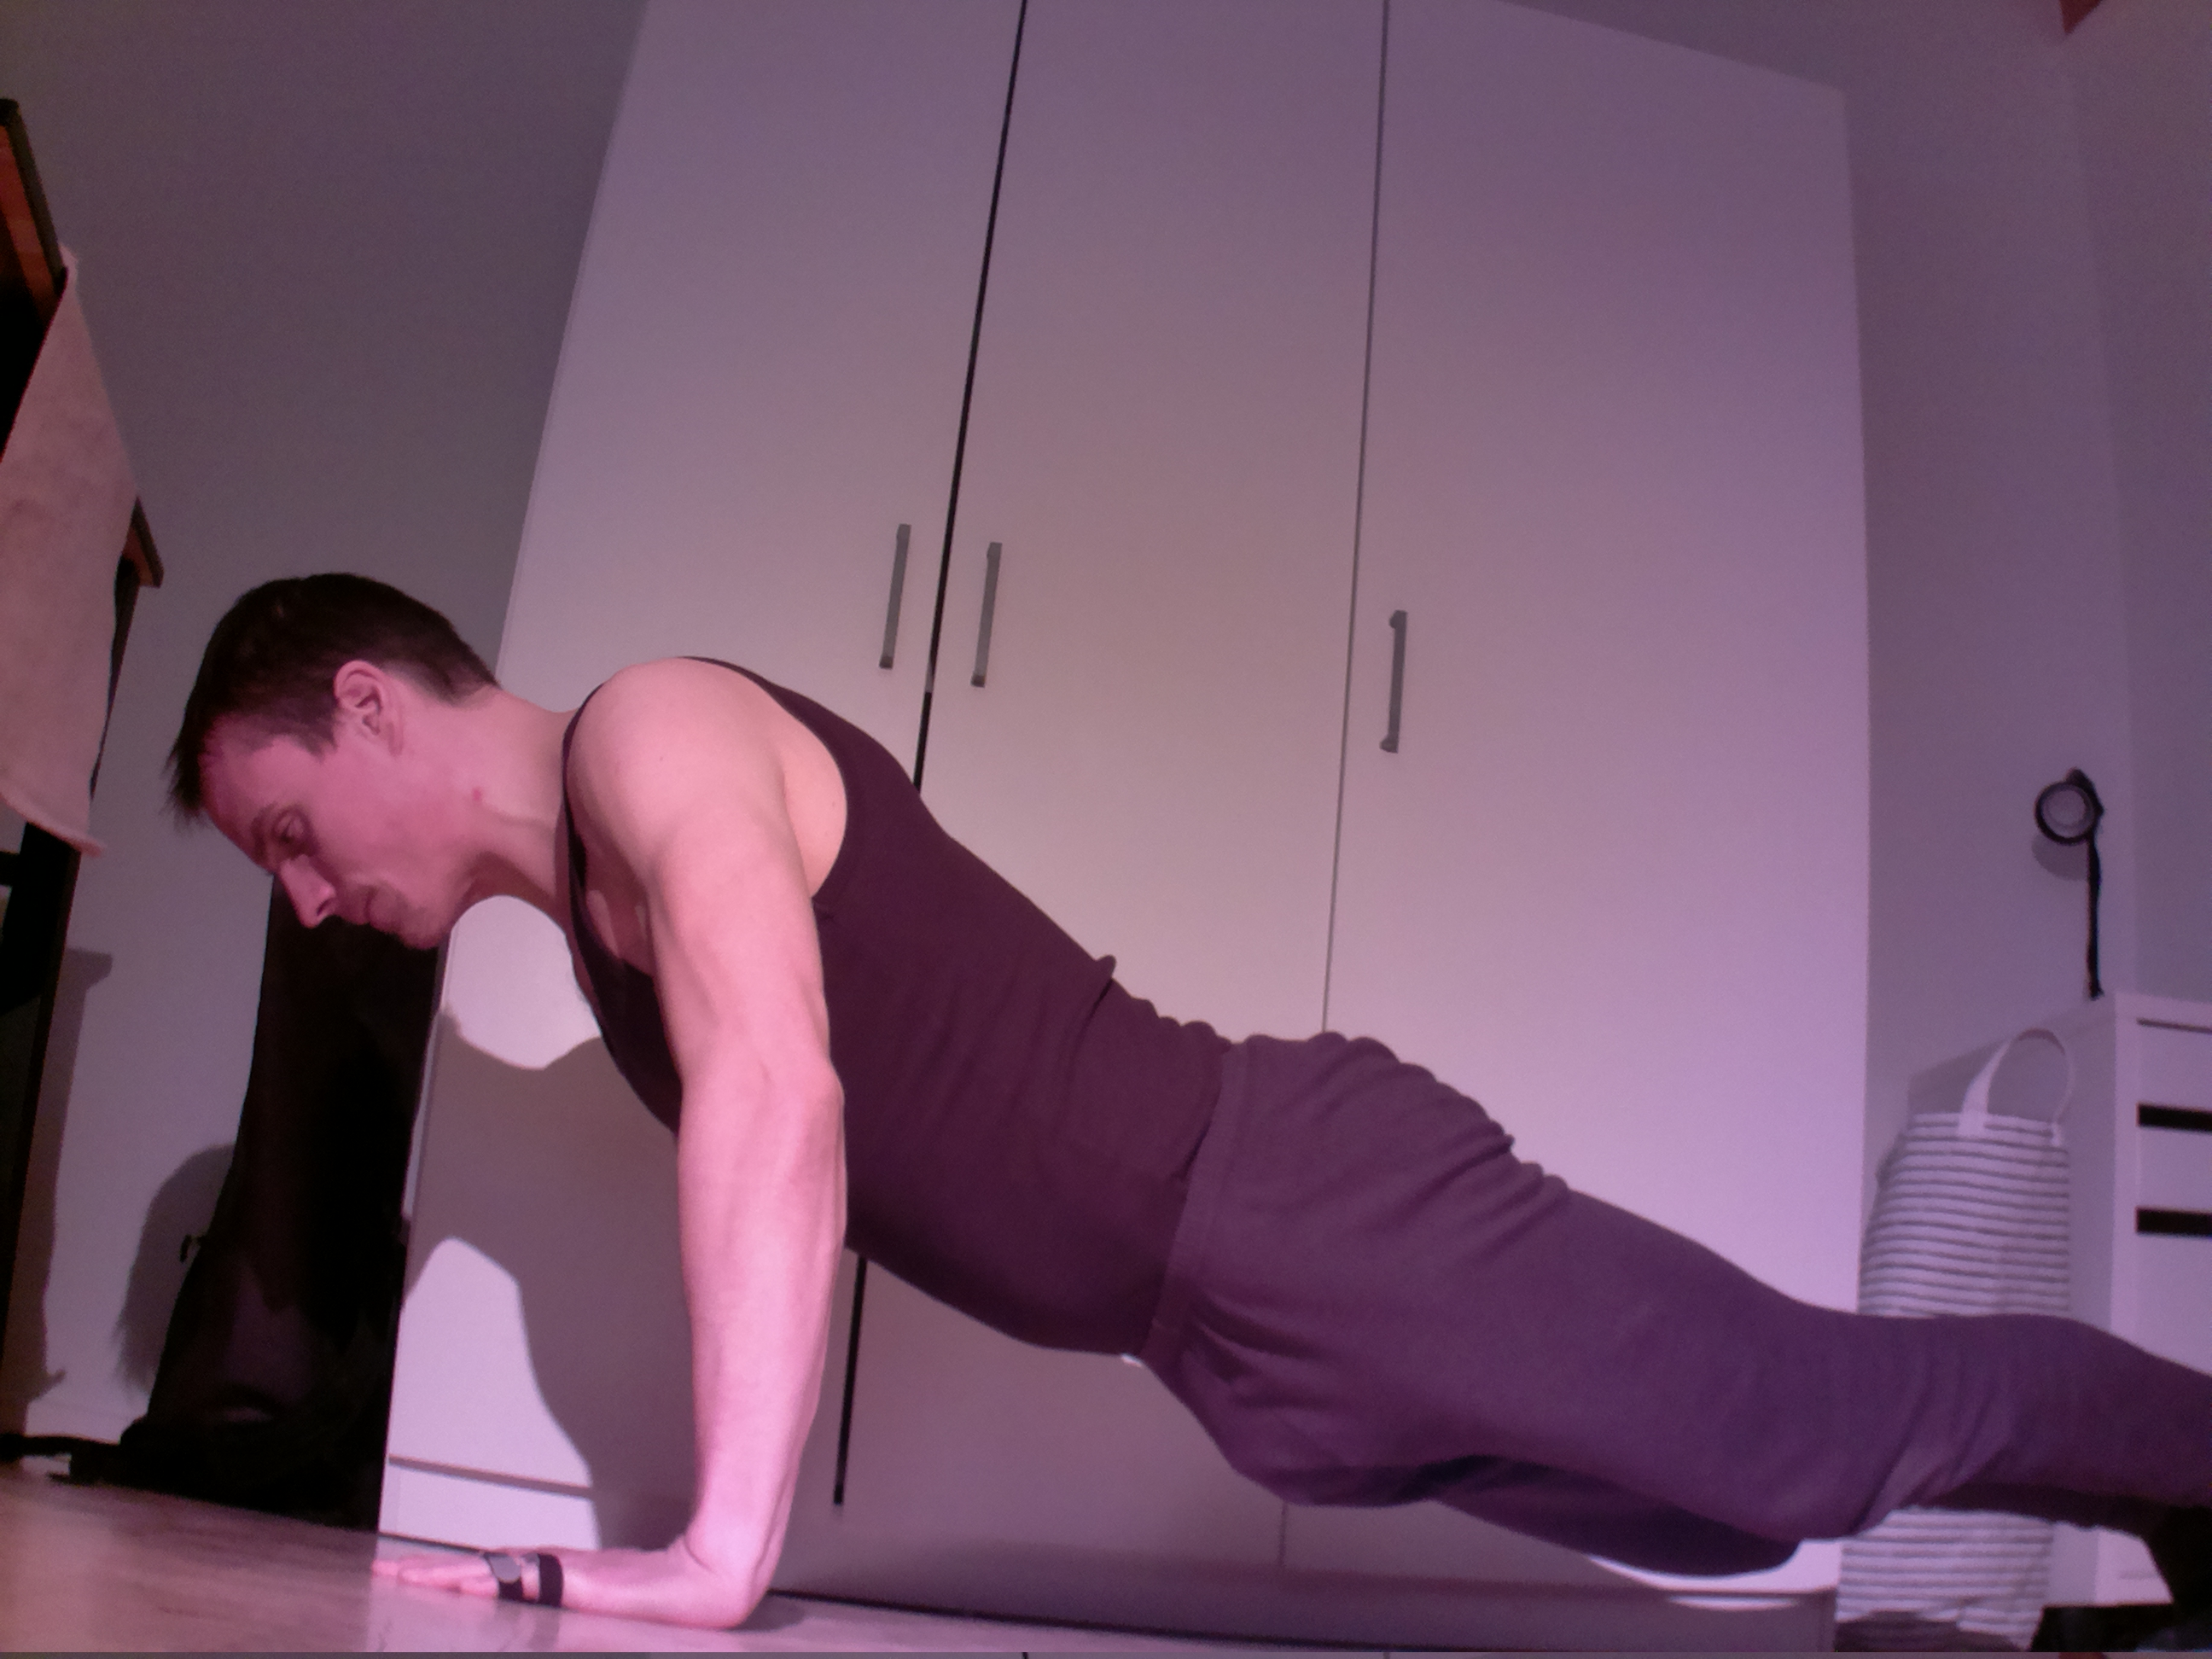CONAN: (158, 568, 1449, 1640)
